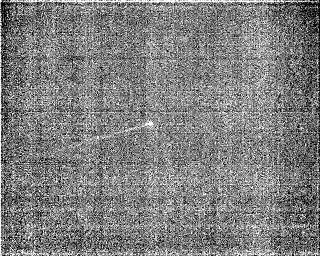AIRPLANE: (68, 119, 155, 149)
